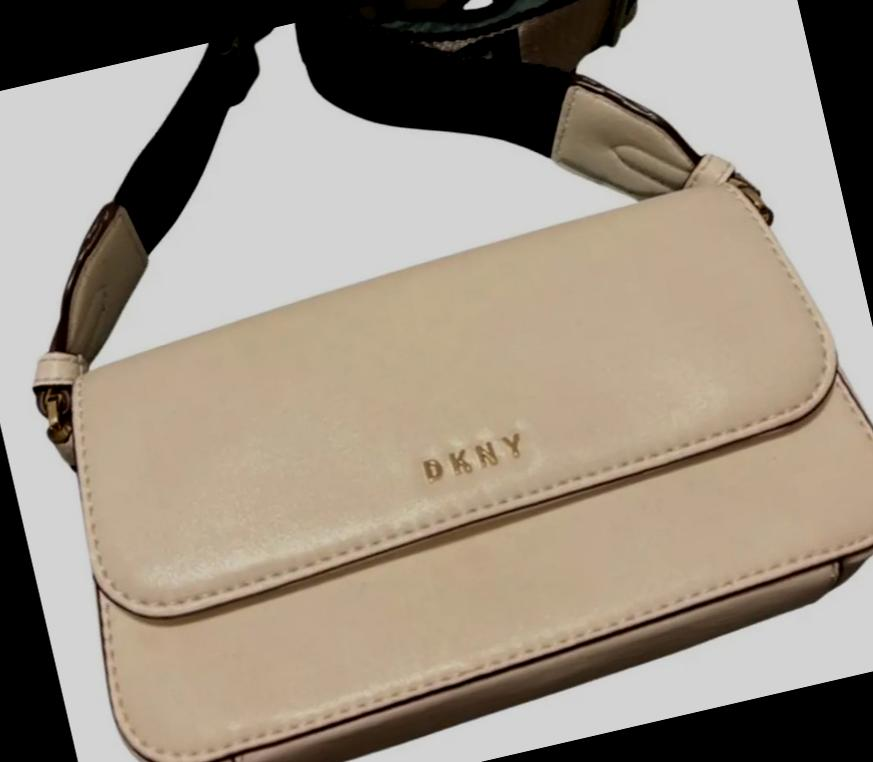DKNY: (419, 432, 525, 484)
